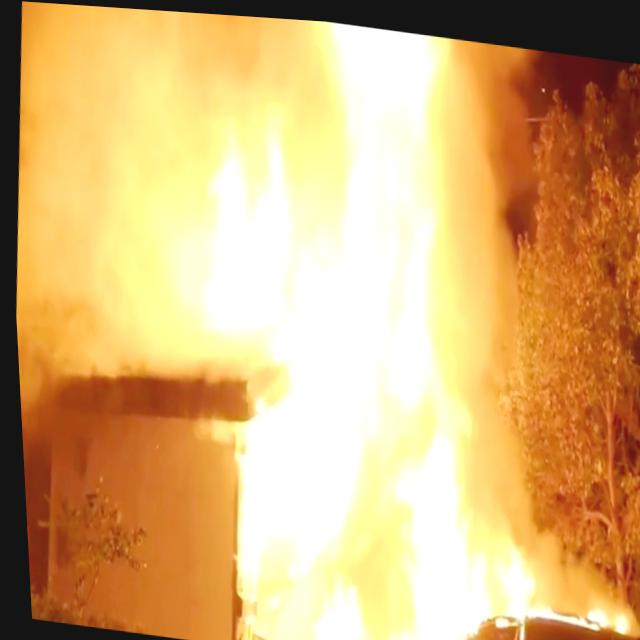fire: (99, 31, 516, 387), (261, 14, 498, 578), (223, 371, 425, 640), (463, 489, 640, 627)
